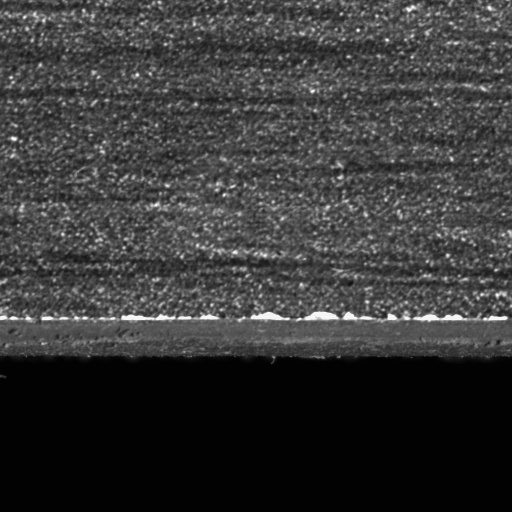huashang: (245, 309, 340, 322), (413, 313, 466, 321), (344, 310, 358, 319)
